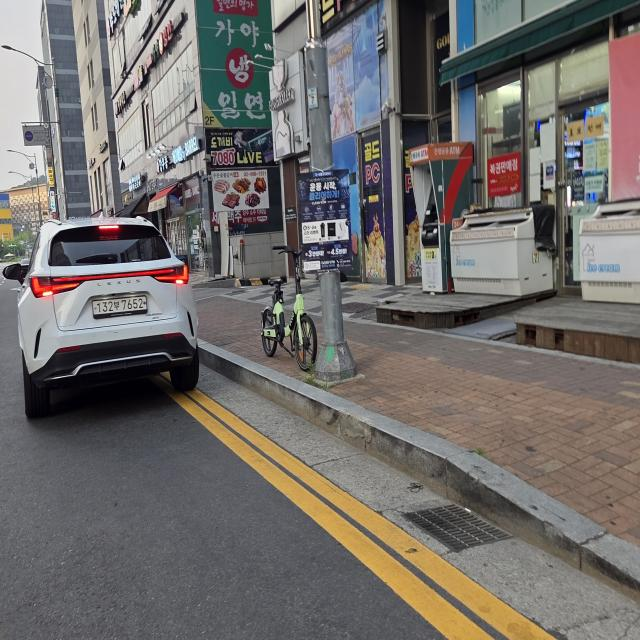bicycle: (244, 236, 320, 393)
car: (6, 199, 215, 437)
